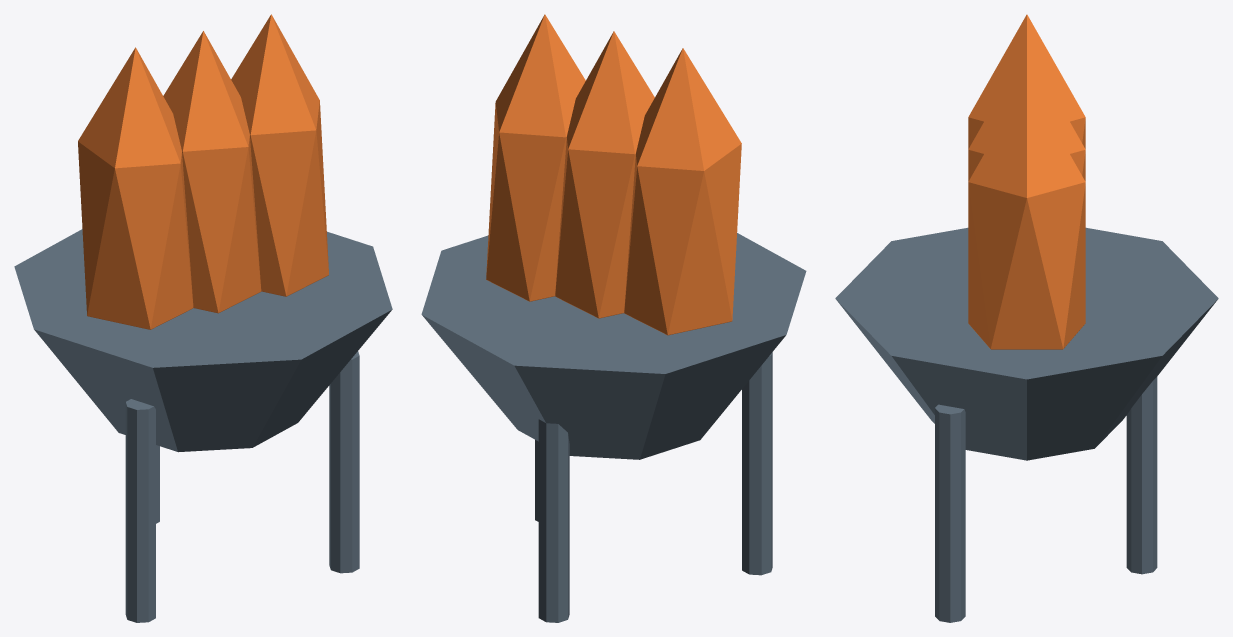
File: SH10_L03_Brazier.fbx
The picture shows the model from 3 angles, left to right: view 1: azimuth 30°, elevation 25°; view 2: azimuth 150°, elevation 25°; view 3: azimuth 270°, elevation 25°; orthographic projection. The views are drawn at different scales.
Parts seen in each view (by area): view 1: SH10_L03_Brazier; view 2: SH10_L03_Brazier; view 3: SH10_L03_Brazier.
Boxes of the visible parts, bbox=[...] form: SH10_L03_Brazier: bbox=[14, 14, 392, 622]; SH10_L03_Brazier: bbox=[421, 14, 806, 622]; SH10_L03_Brazier: bbox=[835, 14, 1218, 622].
Bounding box in the file's own units: 100 × 150 × 100.
